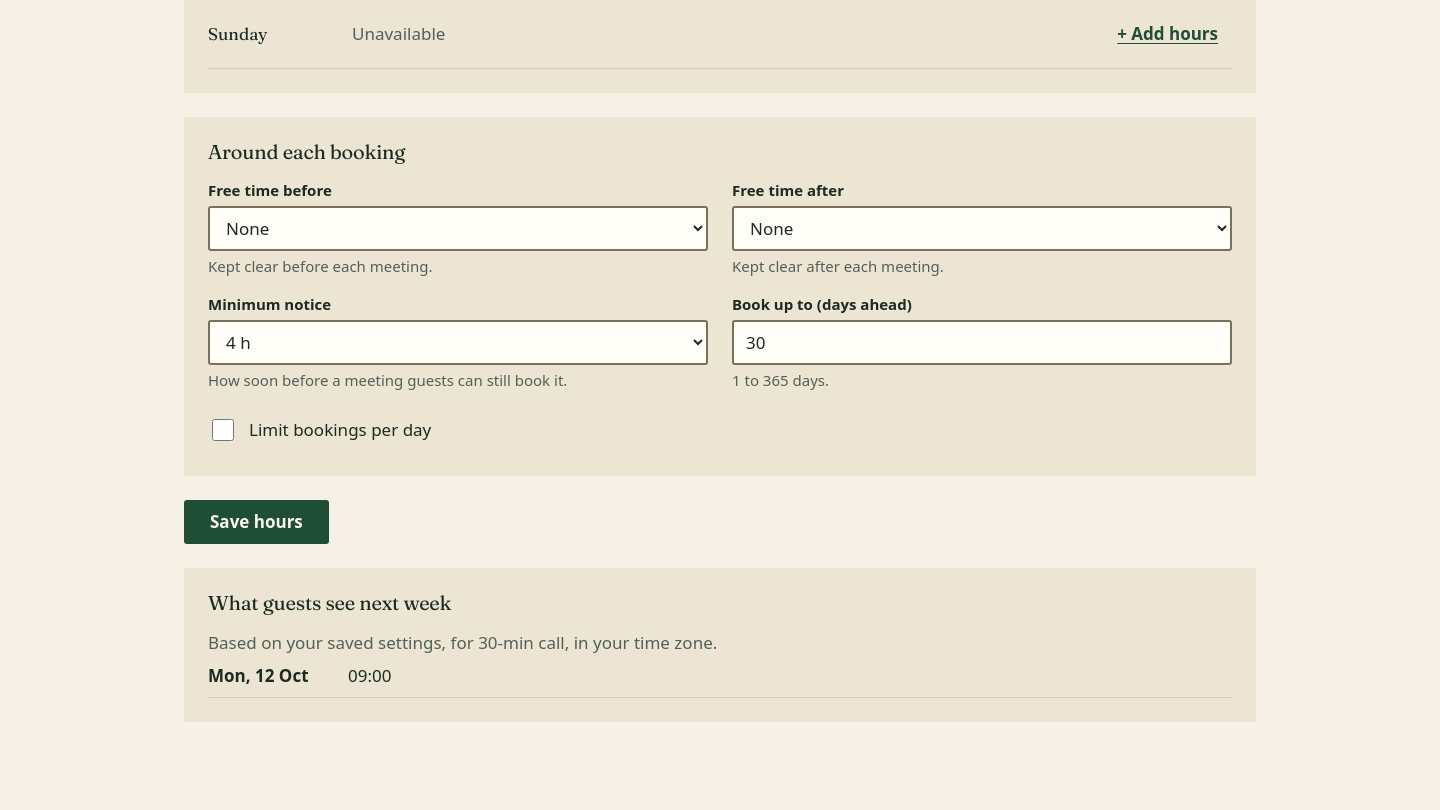
Test: the availability page › shows the server's message when it refuses
(page scrolled)
Click the button "Save hours" at (256, 522), box [184,500,329,544]
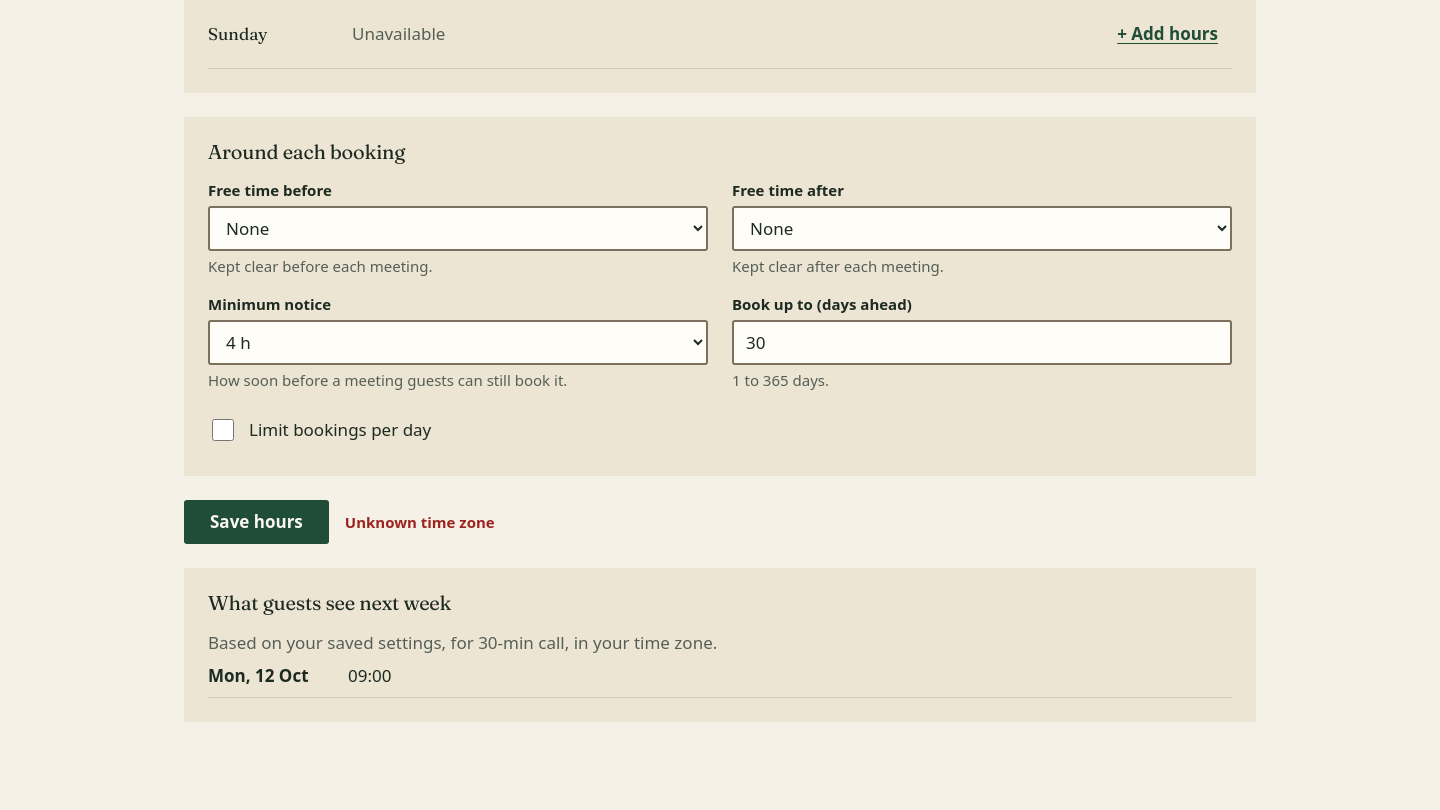
Expected: the text "Unknown time zone" is shown, [345,510,495,533]
